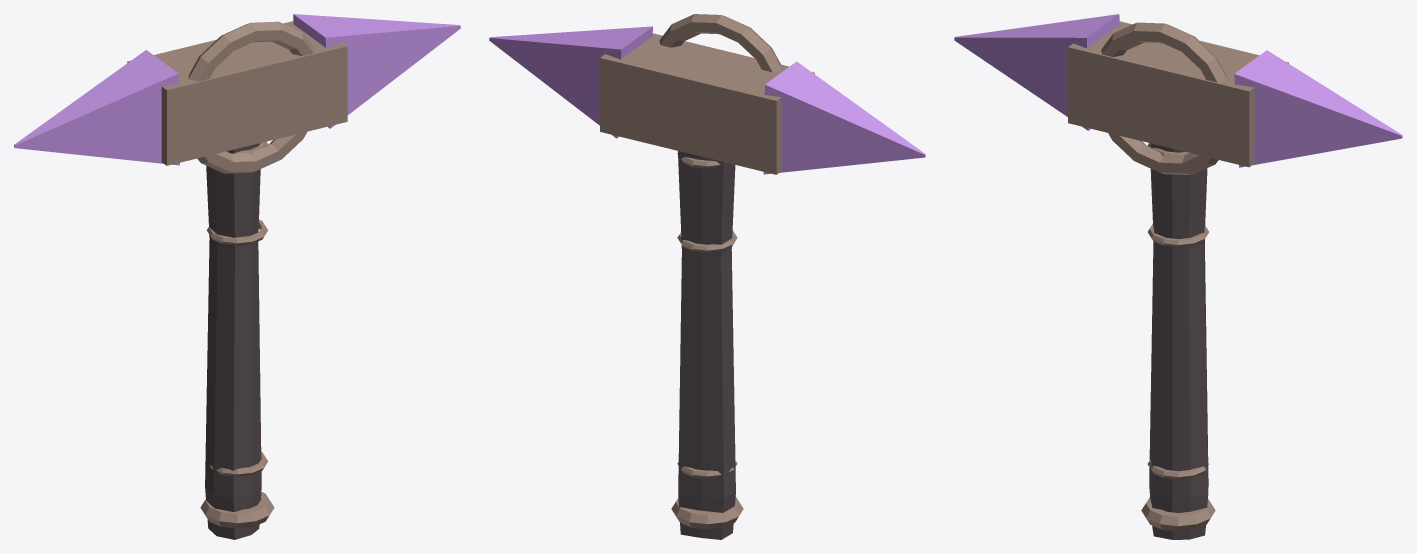
File: BH_PICK_P17_Orbital_do_Vazio_V01.glb
The picture shows the model from 3 angles, left to right: view 1: azimuth 30°, elevation 25°; view 2: azimuth 150°, elevation 25°; view 3: azimuth 330°, elevation 25°; orthographic projection. The views are drawn at different scales.
Parts seen in each view (by area): view 1: Handle | shaped shaft.001, Head | main crossbar.001, Head | mining tooth L.001, Head | mining tooth R.001, Head | arcane frame.001, Handle | pommel.001, Handle | binding 3.001; view 2: Handle | shaped shaft.001, Head | main crossbar.001, Head | mining tooth L.001, Head | mining tooth R.001, Head | arcane frame.001, Handle | pommel.001, Handle | binding 3.001; view 3: Handle | shaped shaft.001, Head | main crossbar.001, Head | mining tooth R.001, Head | mining tooth L.001, Head | arcane frame.001, Handle | pommel.001, Handle | binding 3.001.
Boxes of the visible parts, left/top/right/bottom form: Handle | shaped shaft.001: left=205, top=143, right=261, bottom=539; Head | main crossbar.001: left=127, top=21, right=347, bottom=165; Head | mining tooth L.001: left=14, top=50, right=179, bottom=165; Head | mining tooth R.001: left=293, top=14, right=460, bottom=128; Head | arcane frame.001: left=188, top=21, right=314, bottom=173; Handle | pommel.001: left=200, top=492, right=274, bottom=528; Handle | binding 3.001: left=206, top=219, right=268, bottom=245; Handle | shaped shaft.001: left=678, top=151, right=735, bottom=539; Head | main crossbar.001: left=600, top=33, right=814, bottom=174; Head | mining tooth L.001: left=763, top=61, right=925, bottom=174; Head | mining tooth R.001: left=489, top=26, right=652, bottom=138; Head | arcane frame.001: left=659, top=14, right=782, bottom=72; Handle | pommel.001: left=671, top=496, right=743, bottom=529; Handle | binding 3.001: left=677, top=230, right=737, bottom=252; Handle | shaped shaft.001: left=1149, top=143, right=1208, bottom=539; Head | main crossbar.001: left=1068, top=21, right=1288, bottom=167; Head | mining tooth R.001: left=1234, top=50, right=1402, bottom=167; Head | mining tooth L.001: left=954, top=14, right=1119, bottom=130; Head | arcane frame.001: left=1101, top=22, right=1227, bottom=174; Handle | pommel.001: left=1141, top=497, right=1215, bottom=531; Handle | binding 3.001: left=1147, top=224, right=1208, bottom=247.
Size of the model in its own units: 2.22 by 2.46 by 0.34.
